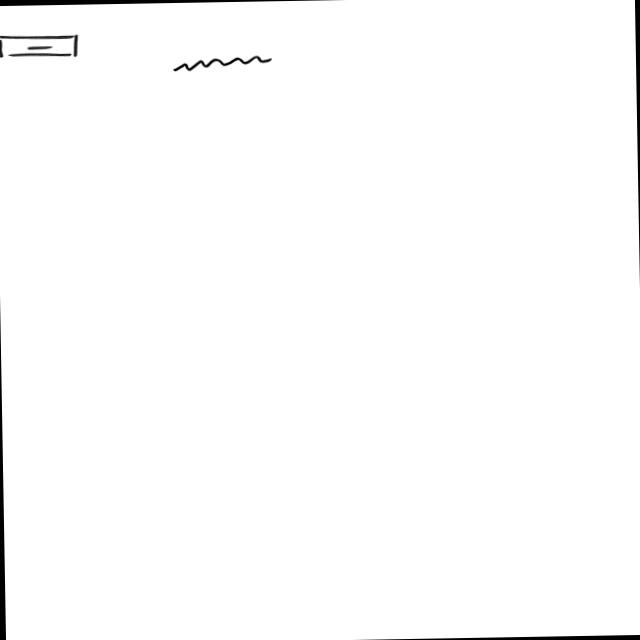icon-button: (1, 33, 80, 60)
text: (172, 53, 276, 74)
